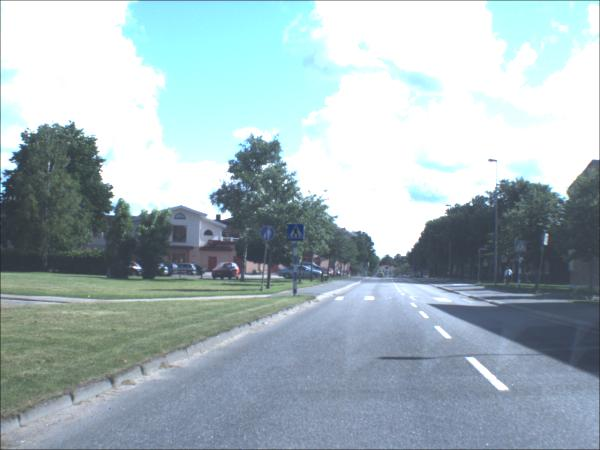PEDESTRIAN_CROSSING: (287, 225, 304, 243), (515, 242, 527, 254)
